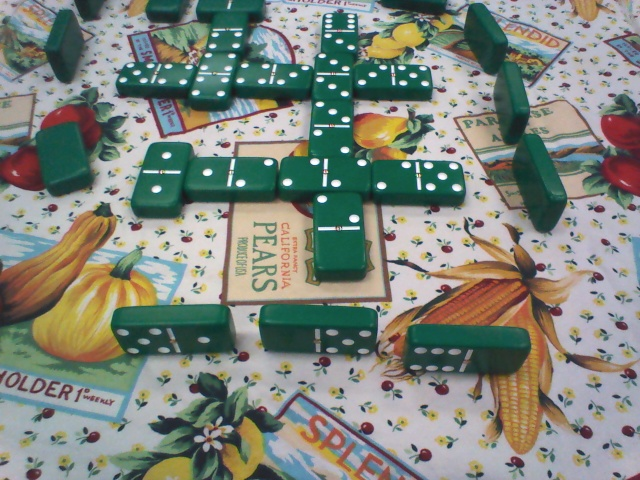A: (25, 119, 102, 197)
B: (298, 189, 373, 280), (365, 155, 468, 207), (184, 151, 278, 200), (131, 137, 191, 212), (279, 152, 379, 197), (238, 56, 316, 104), (352, 60, 434, 101), (112, 61, 198, 100), (308, 98, 361, 156), (307, 48, 357, 106), (316, 12, 365, 55), (205, 14, 253, 56), (192, 1, 273, 20)
C: (36, 9, 87, 86), (67, 1, 117, 24)
D: (502, 127, 575, 243), (487, 63, 533, 146), (458, 3, 511, 74)
E: (395, 316, 534, 380), (255, 297, 376, 367), (107, 302, 236, 364)
